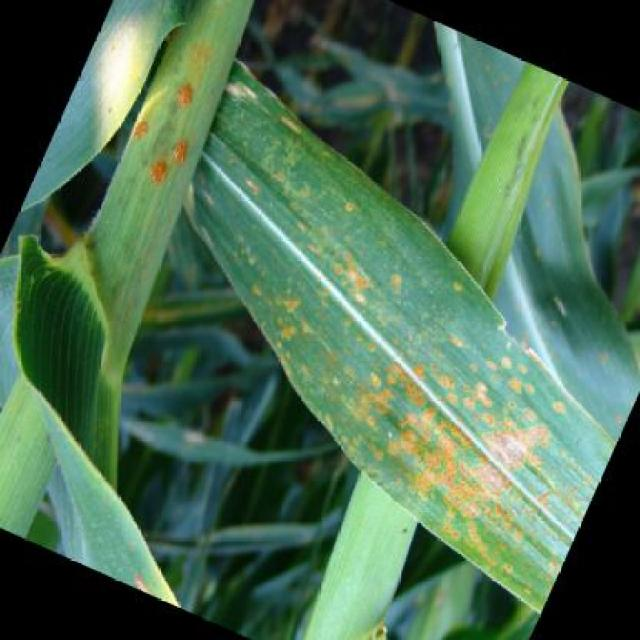Corn_Rust: (218, 158, 564, 557), (123, 69, 222, 202)
